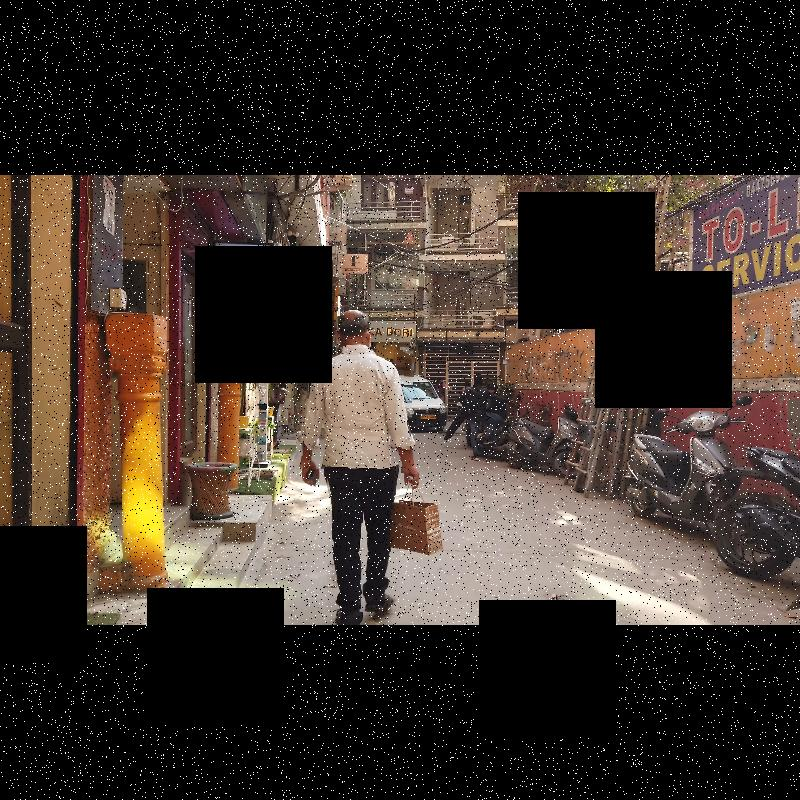Jeans: (327, 465, 400, 612)
shirt: (297, 349, 411, 469)
